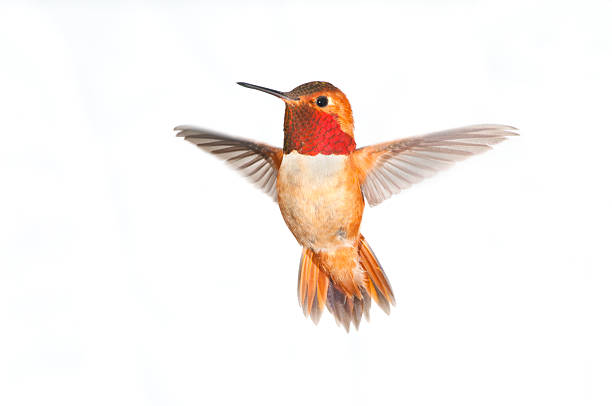Bird: (166, 76, 523, 330)
